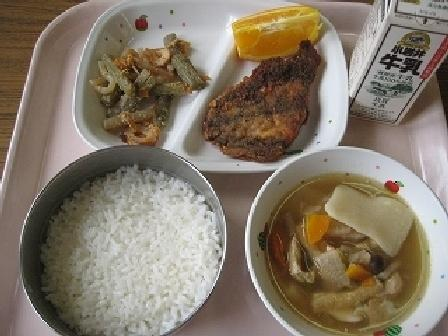Citrus: (223, 7, 322, 55)
Milk: (336, 6, 447, 115)
Rice: (26, 150, 216, 335)
Soups: (259, 157, 443, 335), (87, 26, 203, 129)
fried fish: (208, 62, 324, 166)
